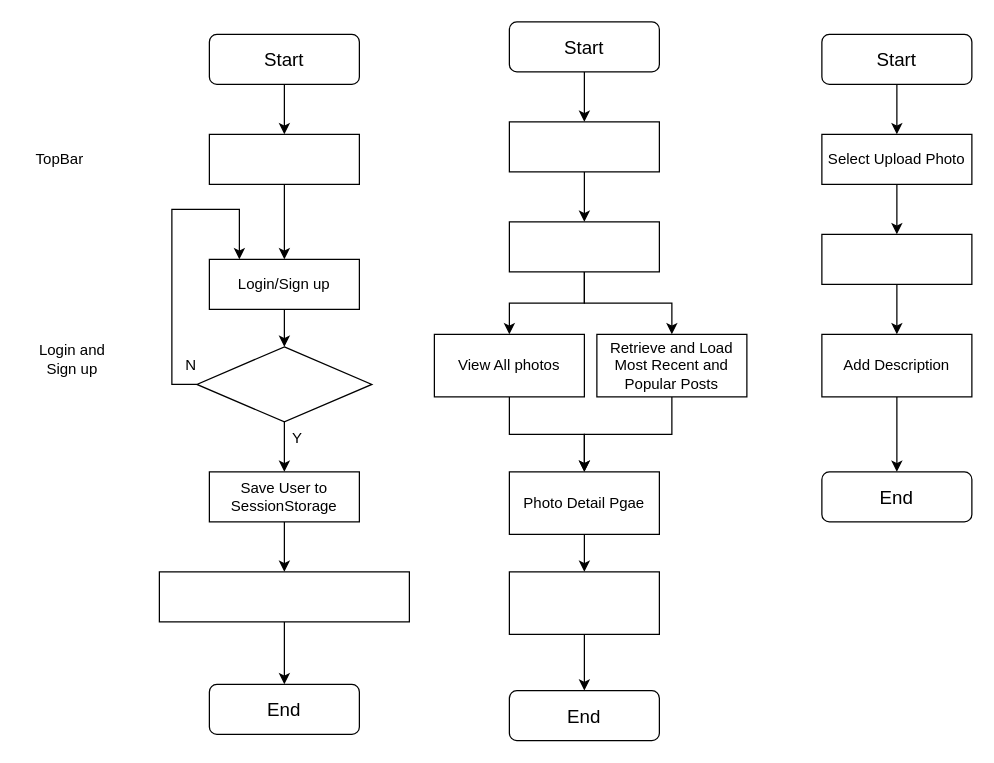
Image size: 994x763. Some labels were removed from this diagram. Each missing label, with the centre of its shape:
Retrieve and Render User Detail: point (583, 246)
Retrieve and Render UserList with Post Number: point (283, 596)
Retrive API version: point (283, 158)
Review and Add Comments: point (583, 602)
Select a Photo: point (896, 258)
Select a User: point (583, 146)
Successful?: point (284, 384)
